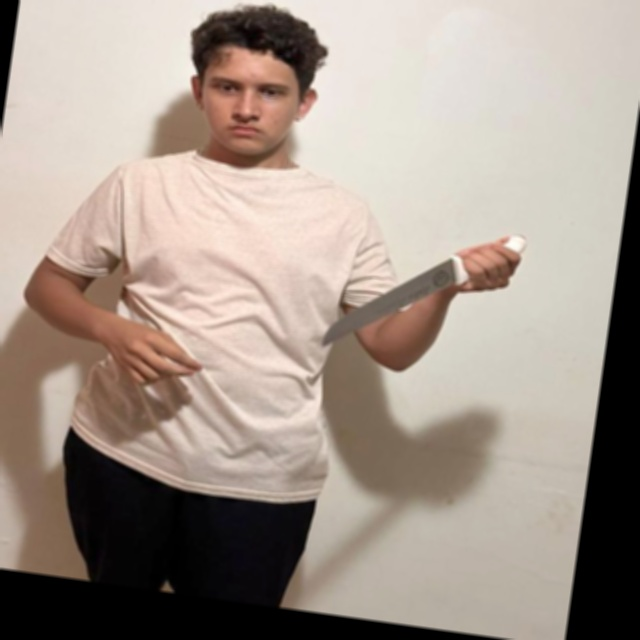Sharp-Object: (318, 241, 457, 361)
